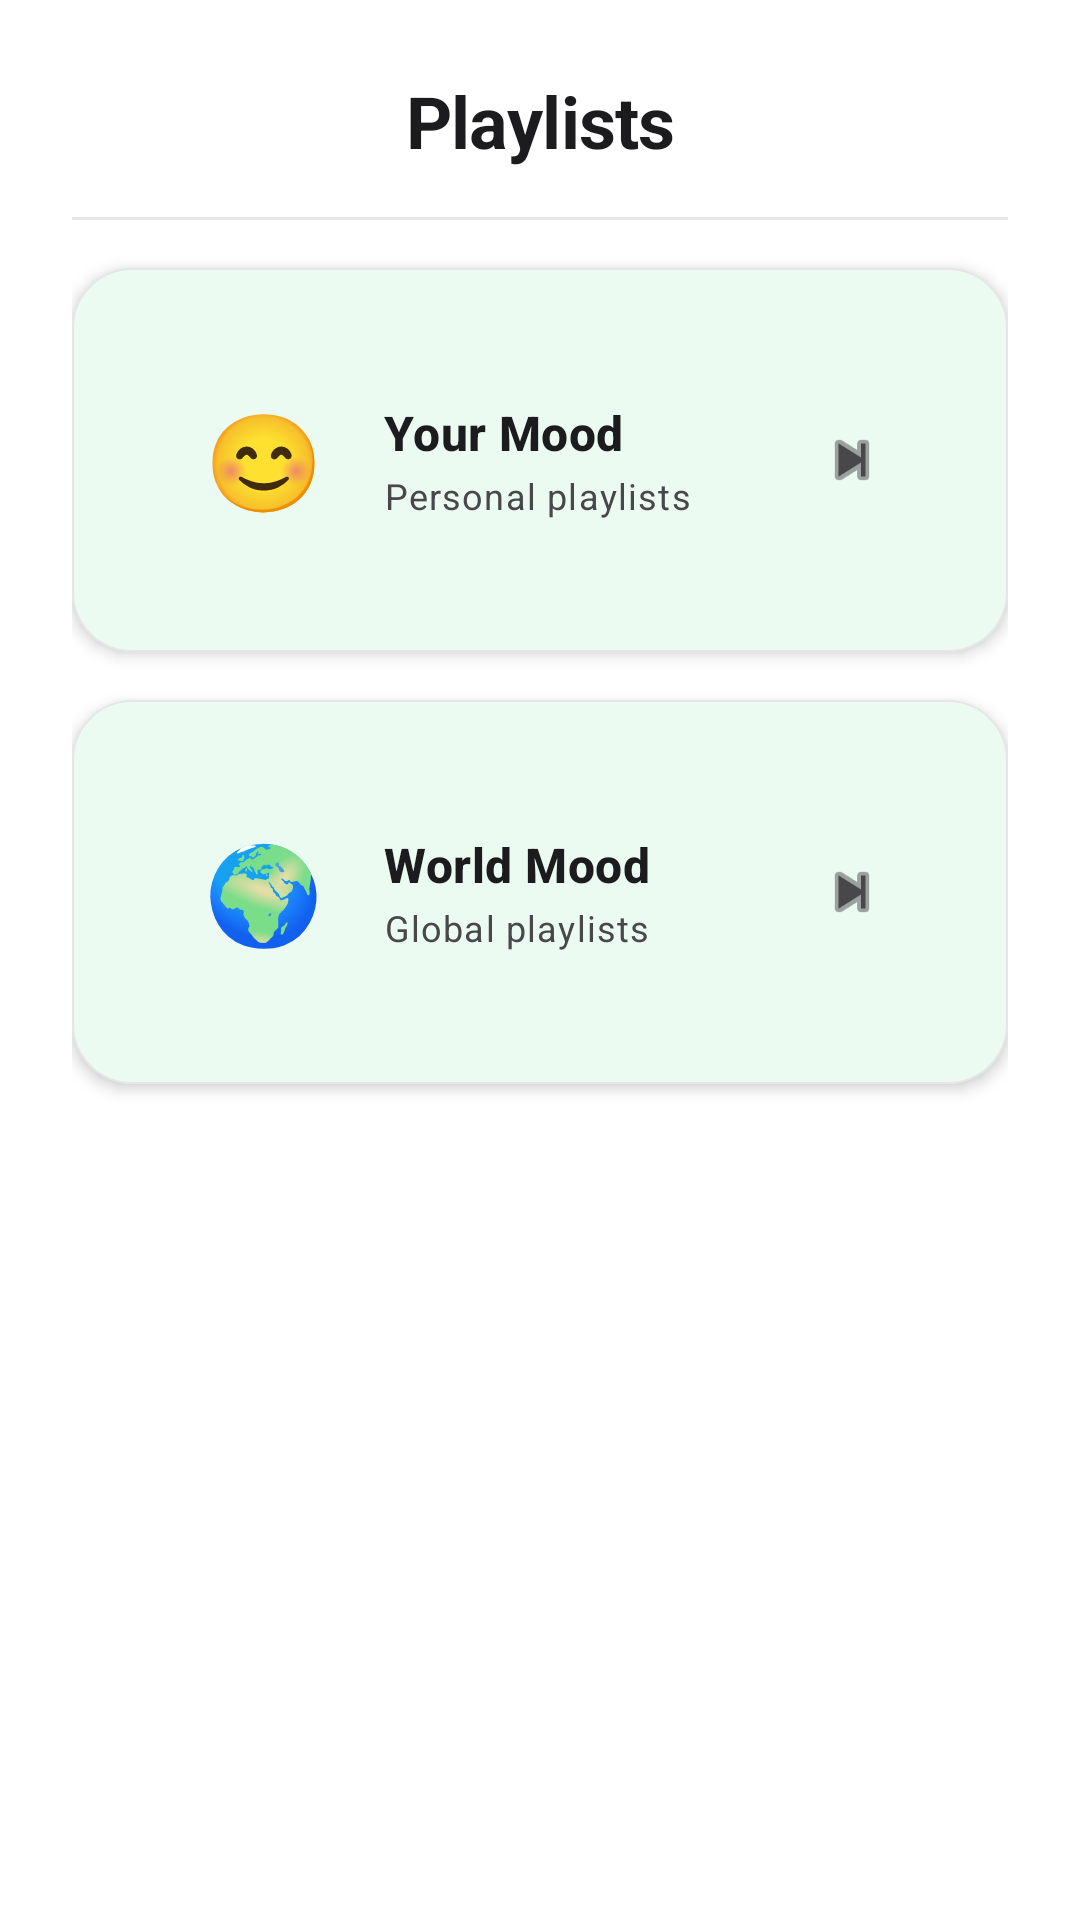

Screen size 1080x1920. Icon name, then its center in pixels as point (x, y):
Navigate: point (852, 460), point (852, 892)
